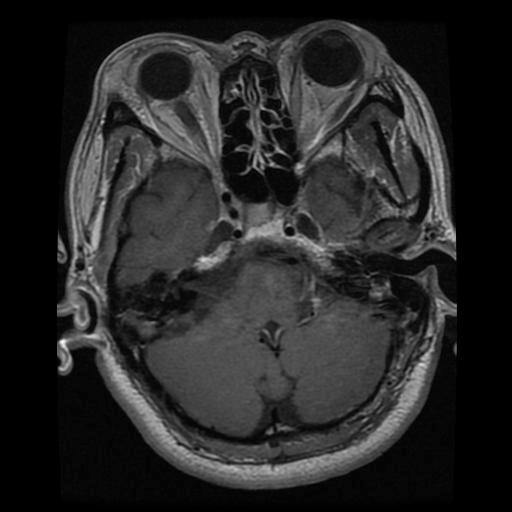Tumour-Pituitary: (223, 199, 312, 250)
